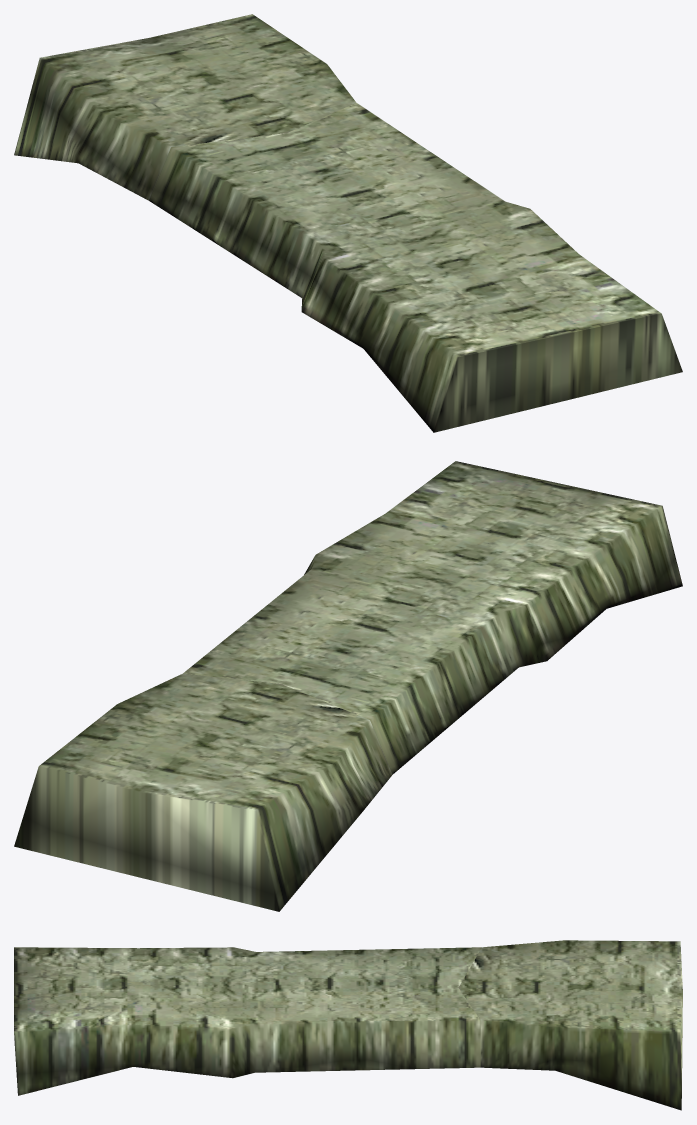
Rendered from stbr4.dae.
The picture shows the model from 3 angles, top to bottom: view 1: azimuth 30°, elevation 25°; view 2: azimuth 150°, elevation 25°; view 3: azimuth 270°, elevation 25°; orthographic projection. The views are drawn at different scales.
Visible parts, largest first — view 1: base2; view 2: base2; view 3: base2.
Boxes of the visible parts, <box> form: base2: <box>14,14,682,432</box>; base2: <box>14,461,682,911</box>; base2: <box>14,940,682,1110</box>.
Size of the model in its own units: 5.05 by 13.12 by 1.63.
Materials: 1 (1 with a texture image).
